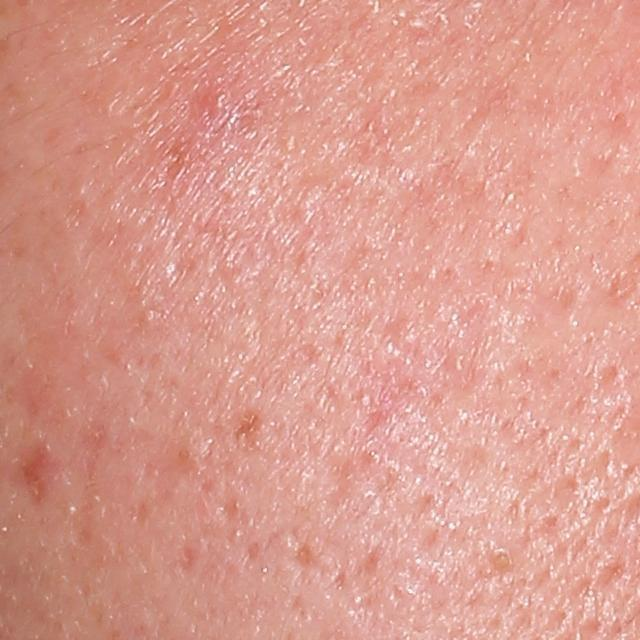atrophic_scar: (12, 441, 50, 511), (591, 556, 636, 603), (290, 539, 324, 578)
comedo: (487, 546, 517, 575)
